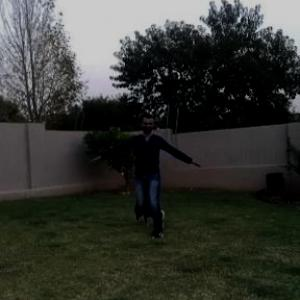land: (92, 121, 192, 237)
